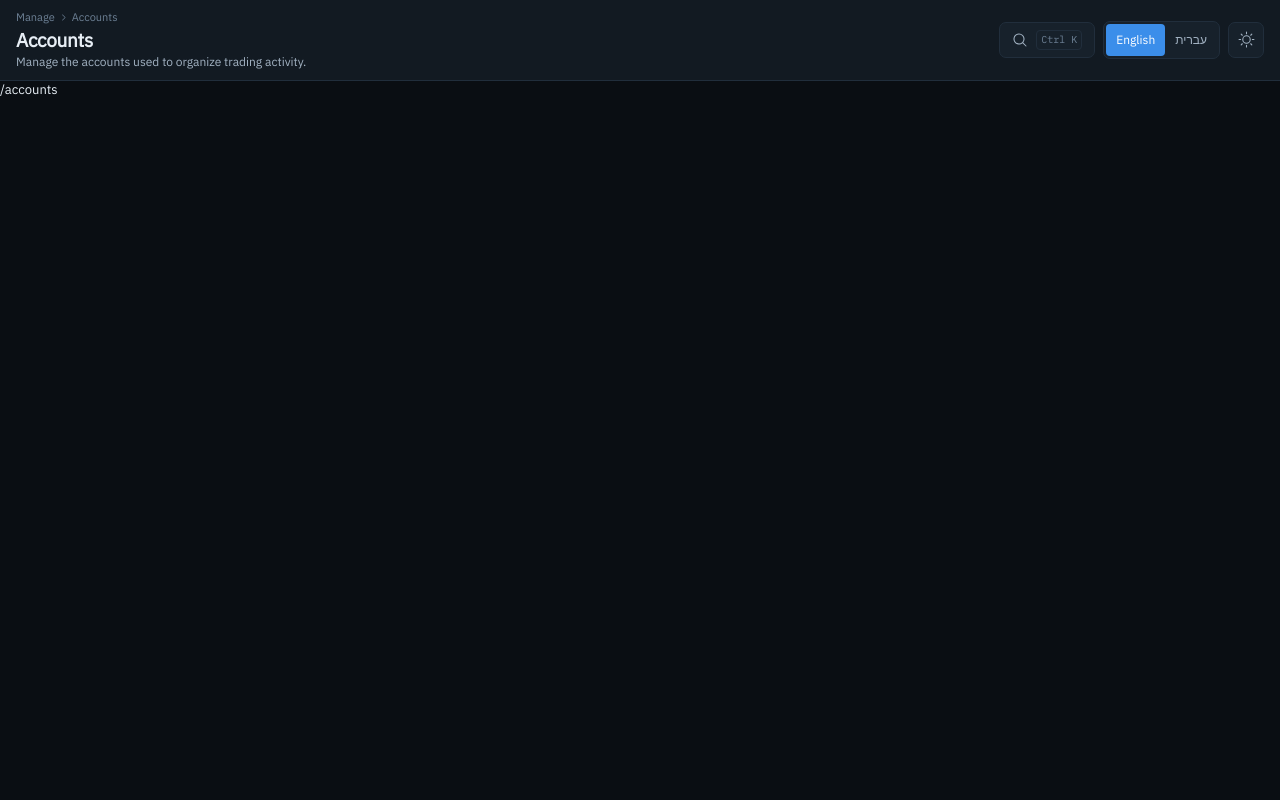
Test case: route-specific header actions › exposes the canonical full-page New Trade command globally
Click the button with aria-label "Search or run a command" at coordinates (1047, 40), box [999, 22, 1095, 58]
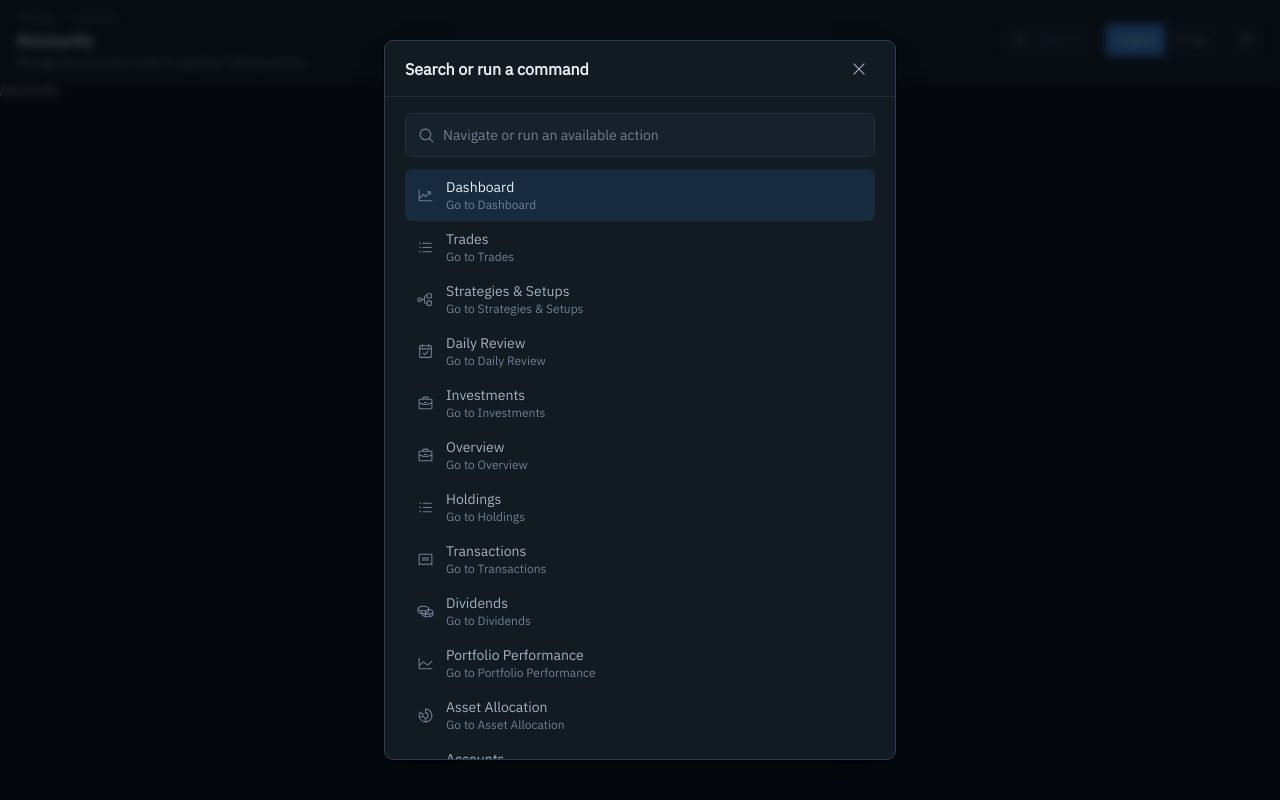
Type "New Trade" into the search field named "Search commands" at coordinates (652, 135), box [443, 125, 862, 145]
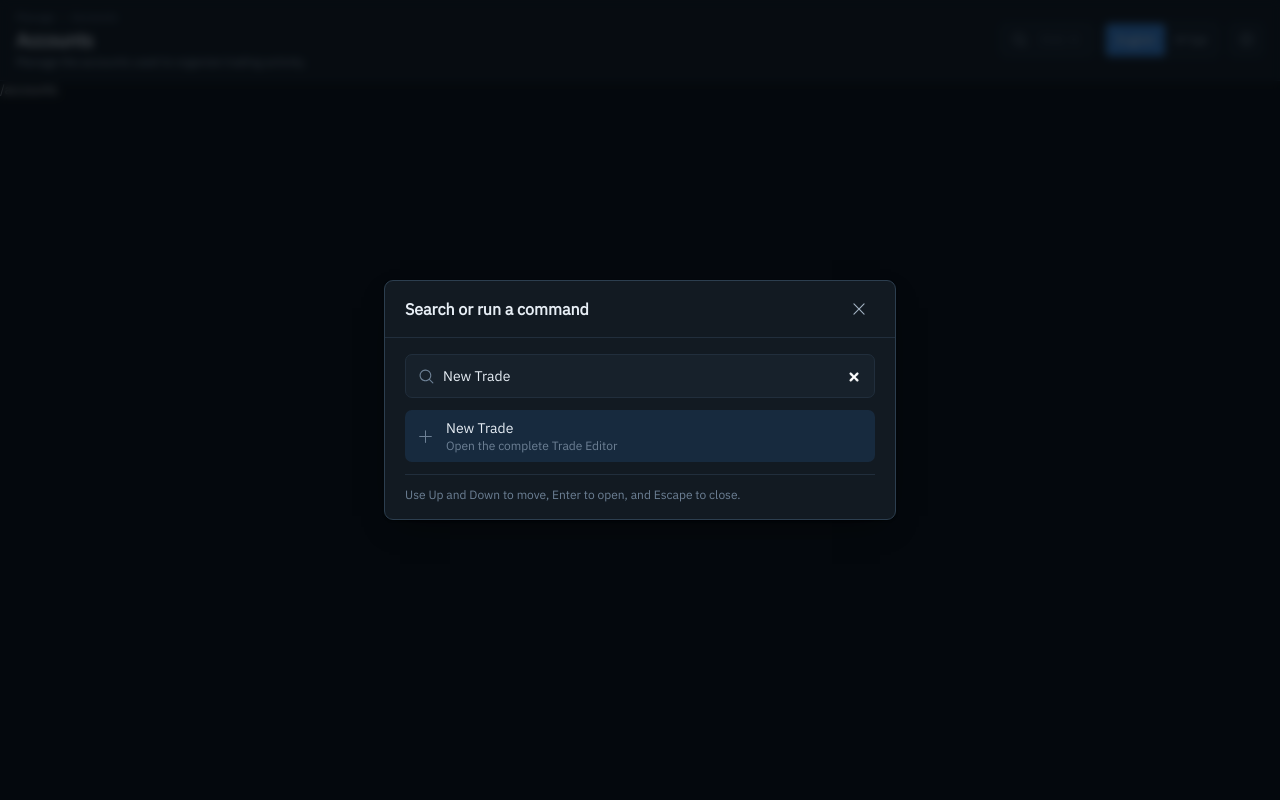
Click the option "New Trade Open the complete Trade Editor" at coordinates (480, 428), box [405, 410, 875, 462]
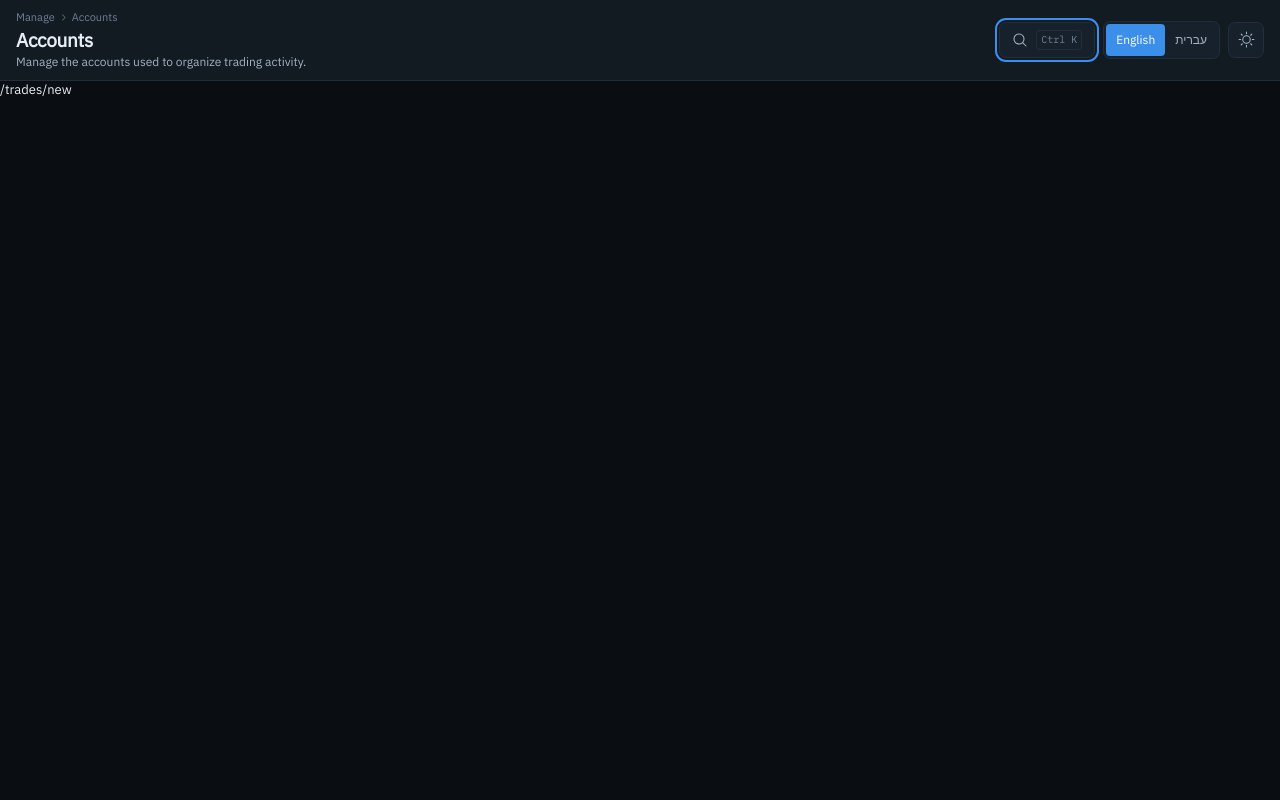
Now the text "/trades/new" is shown, box [0, 81, 72, 98]
